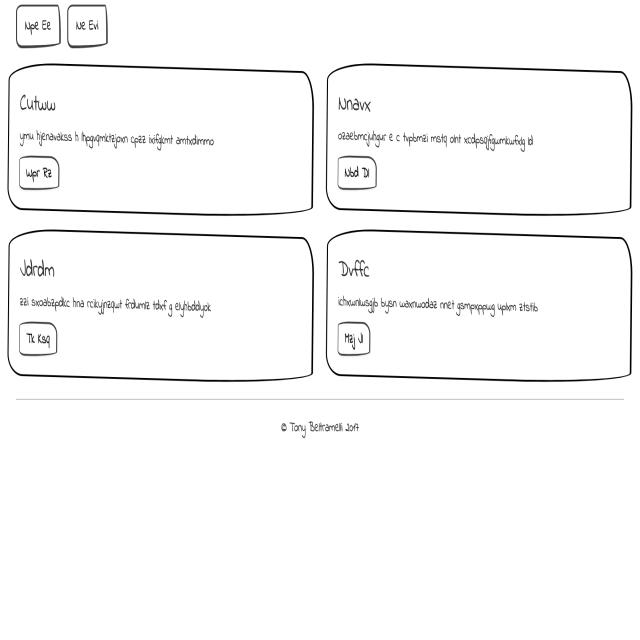Button: (334, 147, 381, 197), (20, 154, 58, 202), (20, 316, 58, 356), (337, 318, 370, 361)
Card: (5, 226, 317, 385), (323, 228, 636, 386), (3, 60, 314, 216), (323, 59, 634, 213)
Footer: (0, 395, 640, 640)
Heading 6: (20, 94, 64, 121), (335, 88, 374, 118), (335, 252, 371, 283)
Navigation Bar: (10, 2, 110, 51)
Paragraph: (335, 291, 548, 323), (14, 289, 219, 322), (332, 122, 538, 152), (16, 130, 219, 152)
